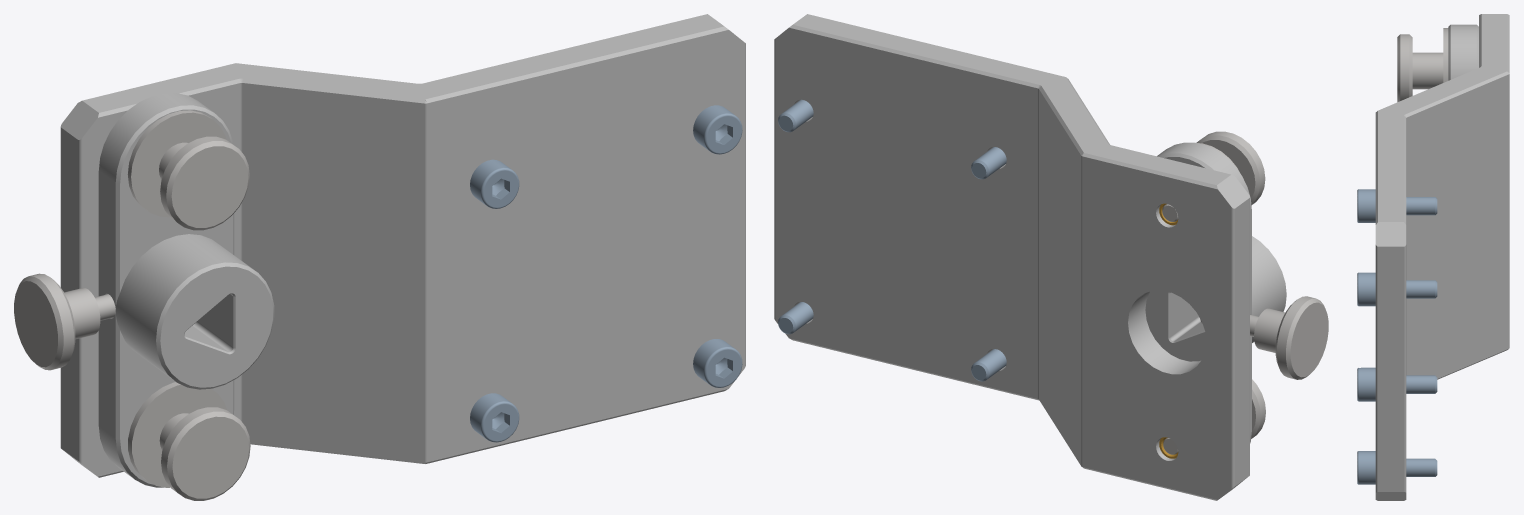
The model's file is ASS_-_4007_-_HOLPIP.glb.
3 renders of one model, left to right at view 1: azimuth 30°, elevation 25°; view 2: azimuth 150°, elevation 25°; view 3: azimuth 270°, elevation 25°, orthographic. The views are drawn at different scales.
Visible parts, largest first — view 1: PRT - 4001 - MNTPIP_straight:1, PRT - 4002 - HOLPIP:1, DIN 464 - Knurled screw high form - M3 x 10 - A2:1, DIN 464 - Knurled screw high form - M3 x 10 - A2:2, DIN 464 - Knurled screw high form - M3 x 10 - A2:3, BUY - Washer - 3x14x1:1, BUY - Washer - 3x14x1:2, ISO 4762 - Hex socket head cap screw - M3 x 10 - 8.8 - A2K:2, ISO 4762 - Hex socket head cap screw - M3 x 10 - 8.8 - A2K:1, ISO 4762 - Hex socket head cap screw - M3 x 10 - 8.8 - A2K:4, ISO 4762 - Hex socket head cap screw - M3 x 10 - 8.8 - A2K:3; view 2: PRT - 4001 - MNTPIP_straight:1, PRT - 4002 - HOLPIP:1, DIN 464 - Knurled screw high form - M3 x 10 - A2:3, DIN 464 - Knurled screw high form - M3 x 10 - A2:1, DIN 464 - Knurled screw high form - M3 x 10 - A2:2, ISO 4762 - Hex socket head cap screw - M3 x 10 - 8.8 - A2K:3, ISO 4762 - Hex socket head cap screw - M3 x 10 - 8.8 - A2K:2, ISO 4762 - Hex socket head cap screw - M3 x 10 - 8.8 - A2K:4, ISO 4762 - Hex socket head cap screw - M3 x 10 - 8.8 - A2K:1; view 3: PRT - 4001 - MNTPIP_straight:1, DIN 464 - Knurled screw high form - M3 x 10 - A2:1, PRT - 4002 - HOLPIP:1, ISO 4762 - Hex socket head cap screw - M3 x 10 - 8.8 - A2K:3, ISO 4762 - Hex socket head cap screw - M3 x 10 - 8.8 - A2K:1, ISO 4762 - Hex socket head cap screw - M3 x 10 - 8.8 - A2K:4, ISO 4762 - Hex socket head cap screw - M3 x 10 - 8.8 - A2K:2, BUY - Washer - 3x14x1:1.
Boxes of the visible parts, <box> form: PRT - 4001 - MNTPIP_straight:1: <box>60,14,745,477</box>; PRT - 4002 - HOLPIP:1: <box>98,93,274,487</box>; DIN 464 - Knurled screw high form - M3 x 10 - A2:1: <box>159,136,249,230</box>; DIN 464 - Knurled screw high form - M3 x 10 - A2:2: <box>159,407,250,500</box>; DIN 464 - Knurled screw high form - M3 x 10 - A2:3: <box>14,273,115,370</box>; BUY - Washer - 3x14x1:1: <box>127,110,226,217</box>; BUY - Washer - 3x14x1:2: <box>128,382,226,487</box>; ISO 4762 - Hex socket head cap screw - M3 x 10 - 8.8 - A2K:2: <box>693,339,742,387</box>; ISO 4762 - Hex socket head cap screw - M3 x 10 - 8.8 - A2K:1: <box>470,393,519,442</box>; ISO 4762 - Hex socket head cap screw - M3 x 10 - 8.8 - A2K:4: <box>470,159,519,208</box>; ISO 4762 - Hex socket head cap screw - M3 x 10 - 8.8 - A2K:3: <box>693,105,742,154</box>; PRT - 4001 - MNTPIP_straight:1: <box>774,14,1249,500</box>; PRT - 4002 - HOLPIP:1: <box>1145,142,1286,443</box>; DIN 464 - Knurled screw high form - M3 x 10 - A2:3: <box>1200,296,1328,379</box>; DIN 464 - Knurled screw high form - M3 x 10 - A2:1: <box>1162,131,1265,221</box>; DIN 464 - Knurled screw high form - M3 x 10 - A2:2: <box>1163,379,1265,454</box>; ISO 4762 - Hex socket head cap screw - M3 x 10 - 8.8 - A2K:3: <box>778,99,813,132</box>; ISO 4762 - Hex socket head cap screw - M3 x 10 - 8.8 - A2K:2: <box>778,302,813,334</box>; ISO 4762 - Hex socket head cap screw - M3 x 10 - 8.8 - A2K:4: <box>971,147,1006,179</box>; ISO 4762 - Hex socket head cap screw - M3 x 10 - 8.8 - A2K:1: <box>971,349,1006,381</box>; PRT - 4001 - MNTPIP_straight:1: <box>1375,14,1509,500</box>; DIN 464 - Knurled screw high form - M3 x 10 - A2:1: <box>1397,34,1443,102</box>; PRT - 4002 - HOLPIP:1: <box>1448,24,1478,80</box>; ISO 4762 - Hex socket head cap screw - M3 x 10 - 8.8 - A2K:3: <box>1357,272,1437,306</box>; ISO 4762 - Hex socket head cap screw - M3 x 10 - 8.8 - A2K:1: <box>1357,367,1437,401</box>; ISO 4762 - Hex socket head cap screw - M3 x 10 - 8.8 - A2K:4: <box>1357,189,1437,222</box>; ISO 4762 - Hex socket head cap screw - M3 x 10 - 8.8 - A2K:2: <box>1357,451,1437,484</box>; BUY - Washer - 3x14x1:1: <box>1443,28,1448,82</box>.
Bounding box in the file's own units: 94 × 51.91 × 24.8.
